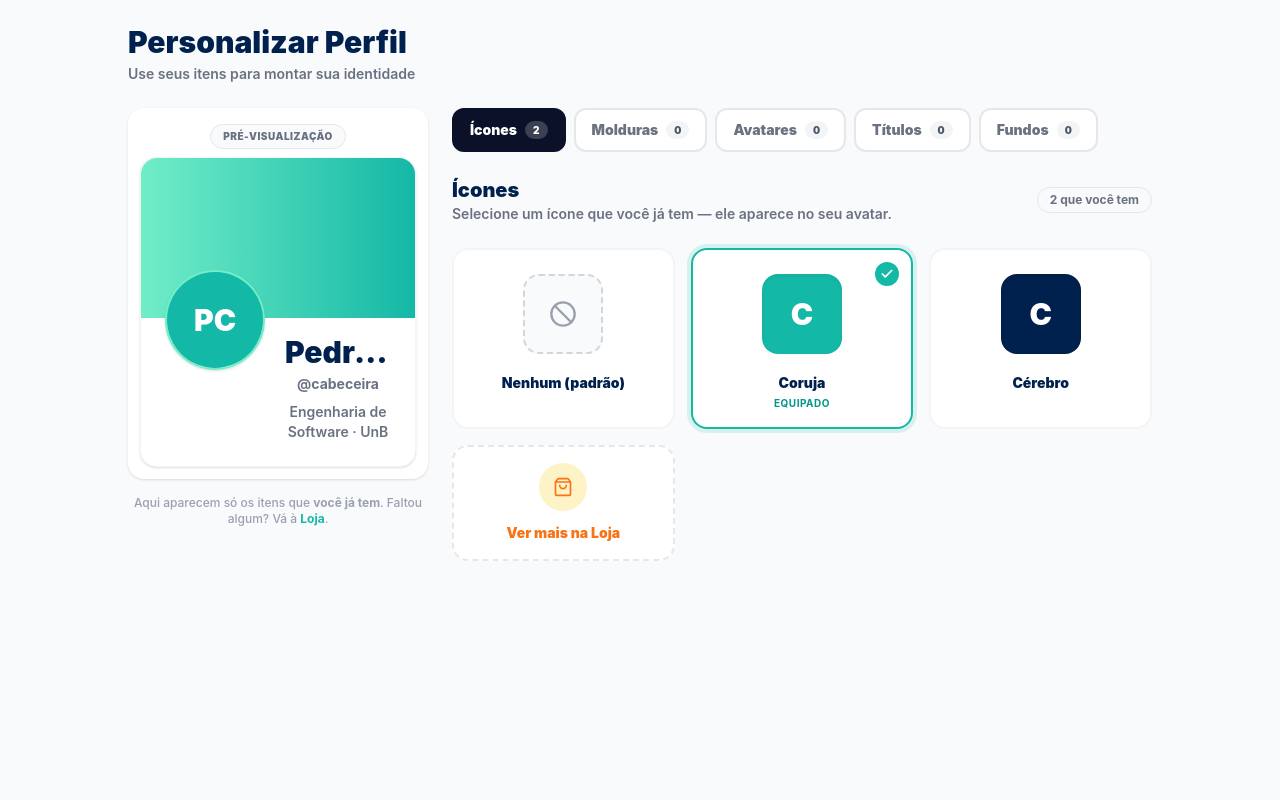
Test case: PersonalizarPerfilPage › deve desequipar (PATCH /inventario/desequipar) ao escolher "Nenhum (padrão)" e salvar
Expected: the text "Coruja" is shown, [778, 374, 825, 392]
Note: Remove o item equipado escolhendo "Nenhum (padrão)".
Click the button "Nenhum (padrão)". click: (563, 338)
box: [452, 248, 675, 428]
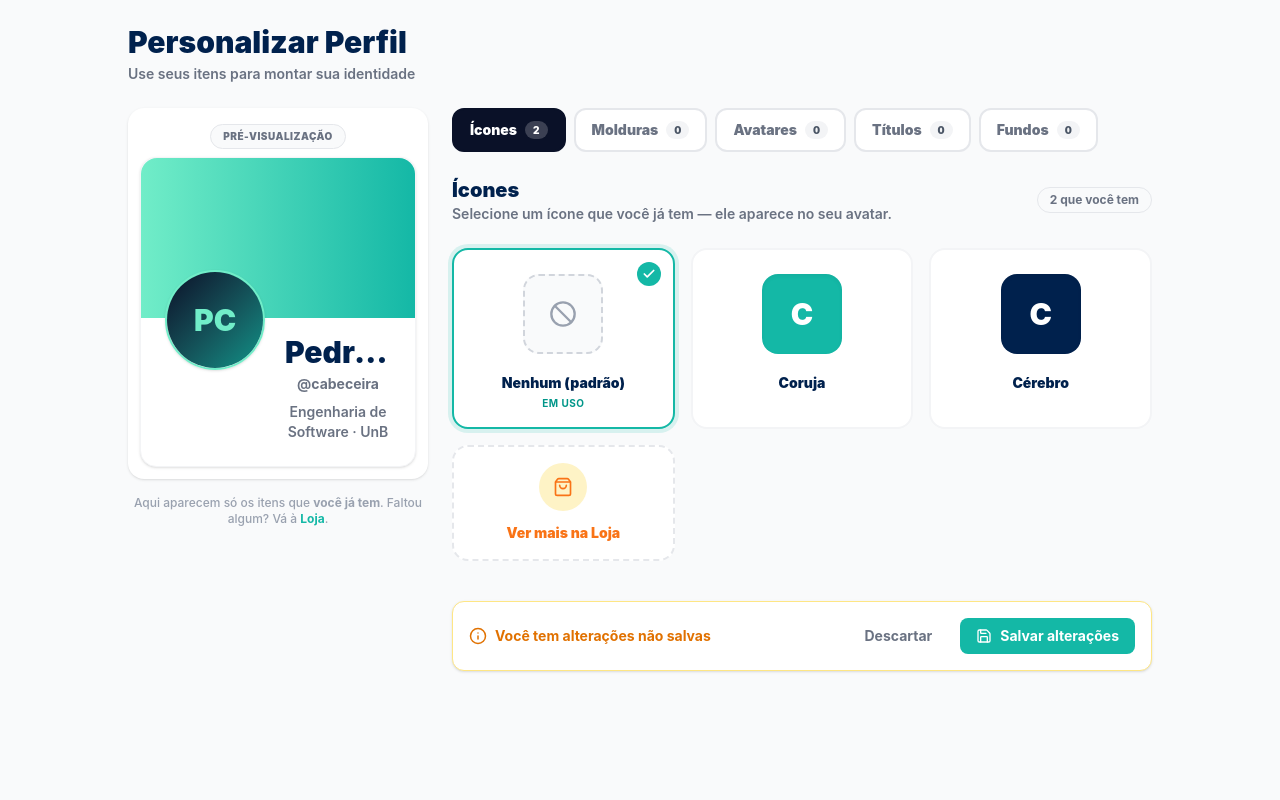
Click the button "Salvar alterações". click: (1048, 636)
box: [960, 618, 1135, 654]
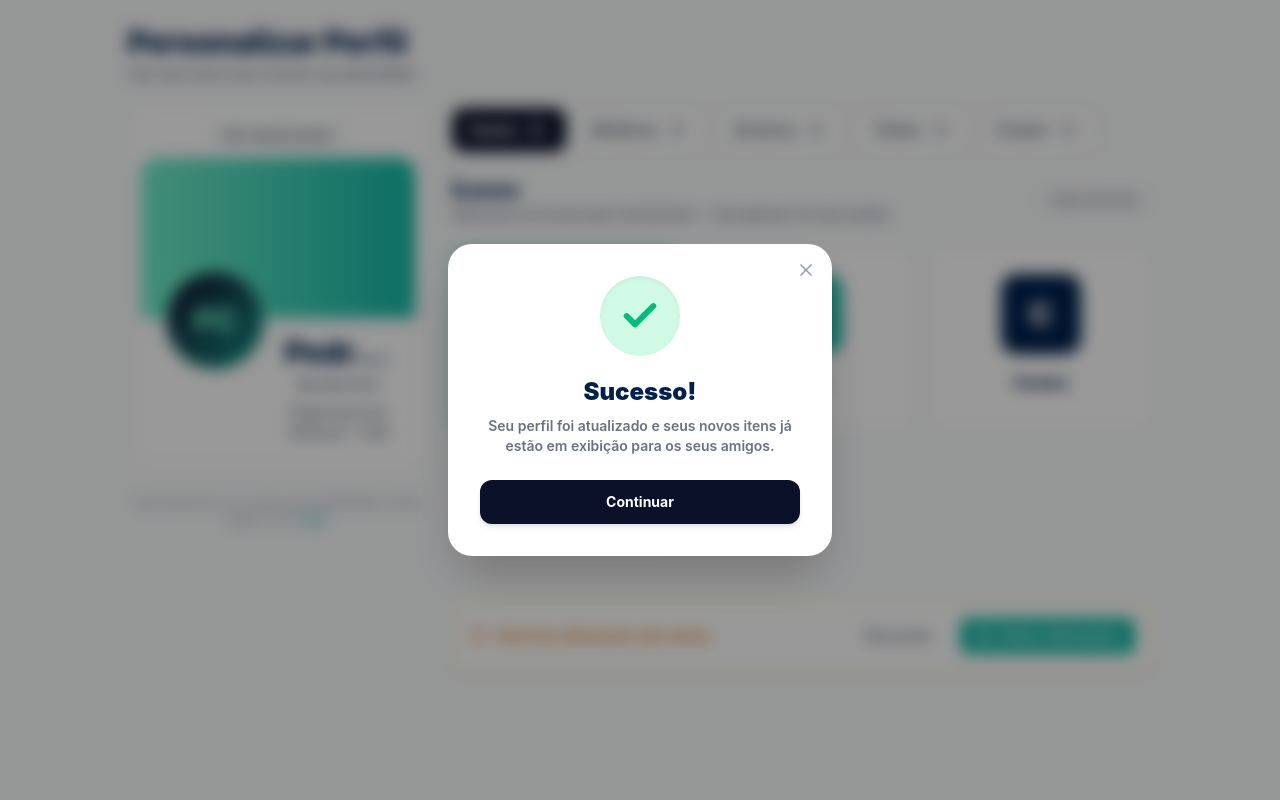
Now the heading "Sucesso!" is shown, box [584, 377, 696, 406]
